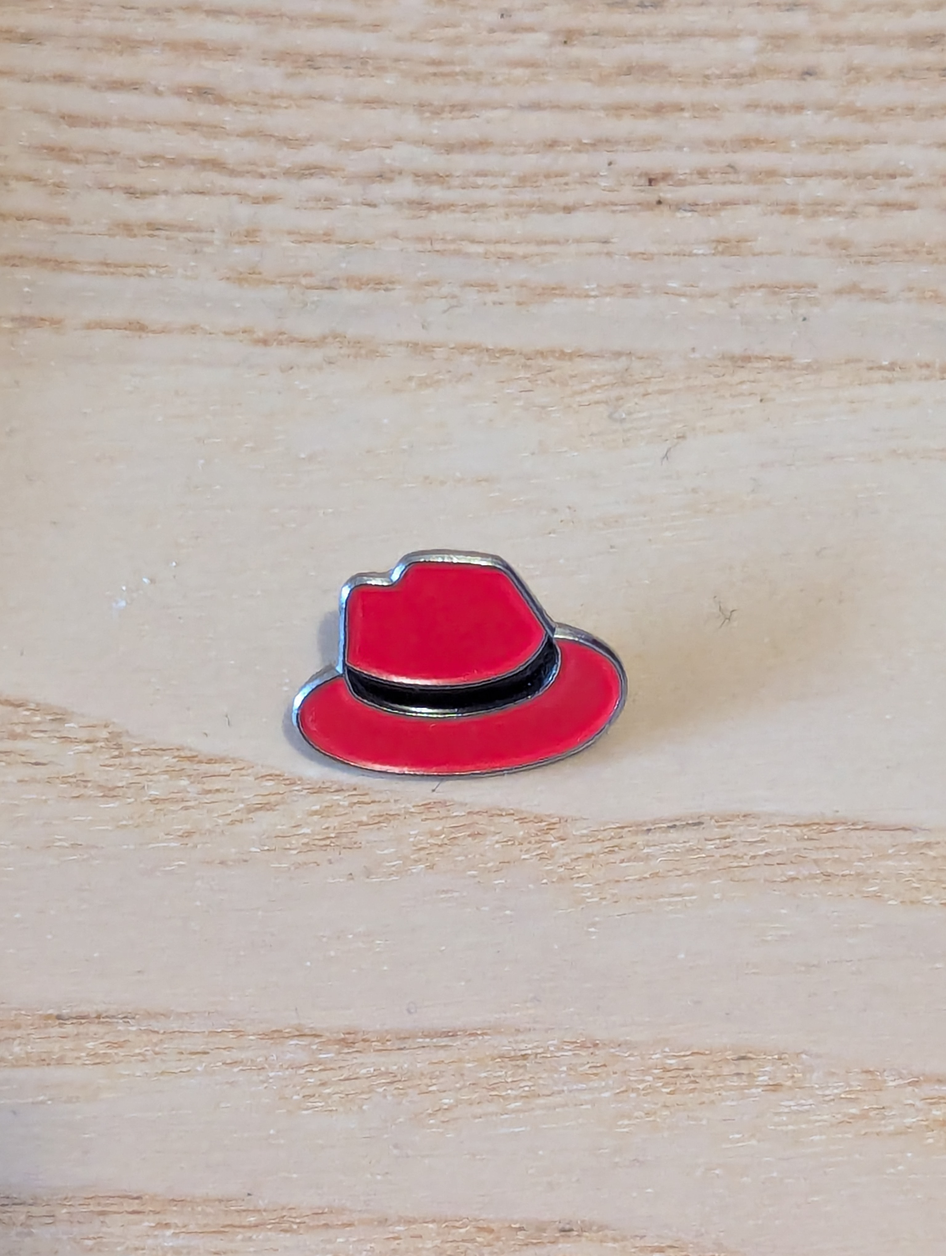Red-Hat: (164, 440, 791, 938)
